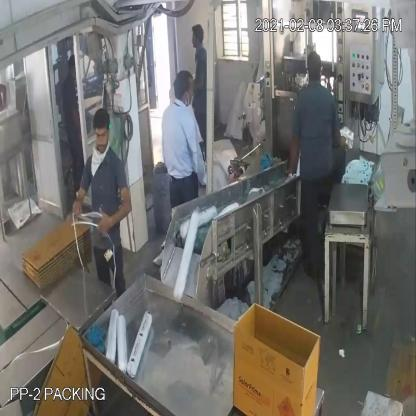no_glove: (97, 179, 133, 235), (69, 180, 95, 222)
